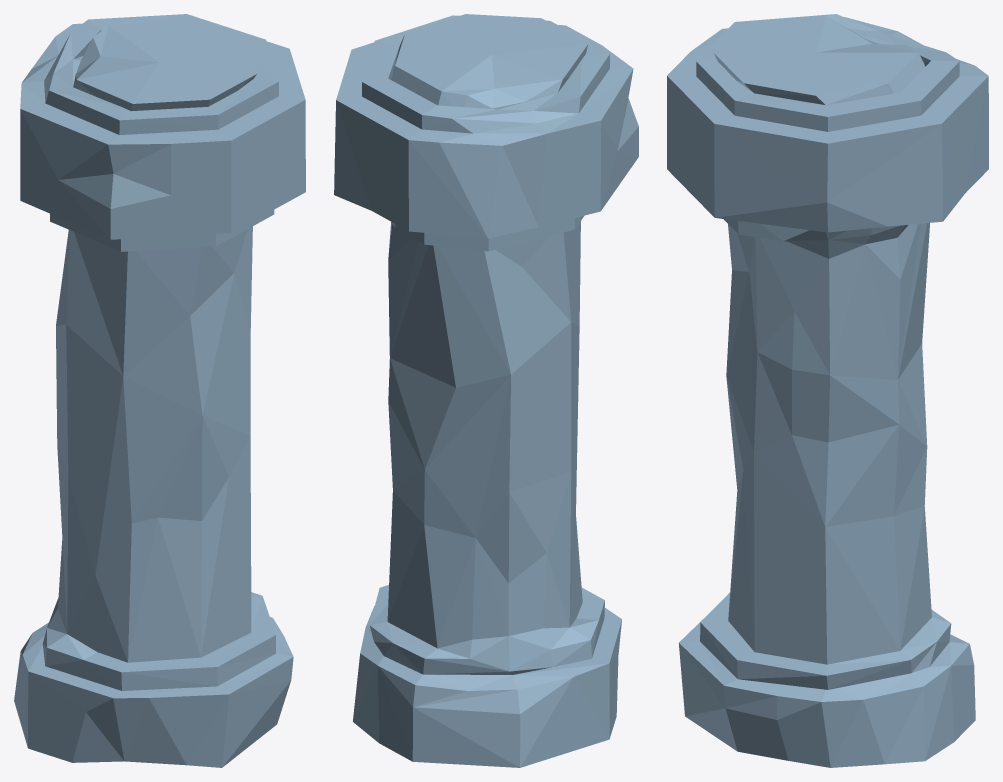
Rendered from Pillar_01.fbx.
3 renders of one model, left to right at view 1: azimuth 30°, elevation 25°; view 2: azimuth 150°, elevation 25°; view 3: azimuth 270°, elevation 25°, orthographic. The views are drawn at different scales.
Visible parts, largest first — view 1: pilar_01; view 2: pilar_01; view 3: pilar_01.
Boxes of the visible parts, bbox=[...] form: pilar_01: bbox=[14, 14, 305, 767]; pilar_01: bbox=[334, 14, 638, 767]; pilar_01: bbox=[667, 14, 988, 767].
Size of the model in its own units: 298 by 718 by 314.
